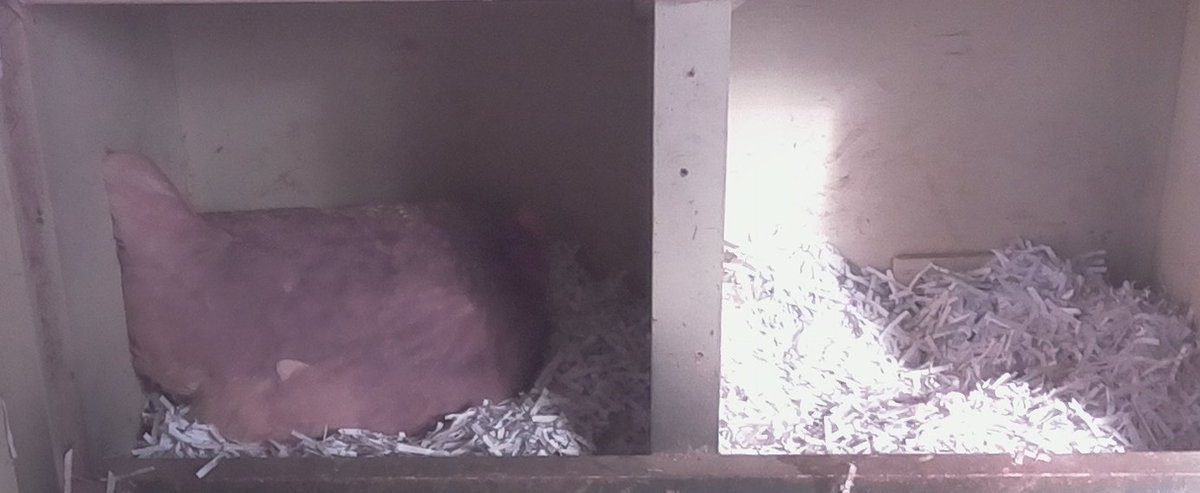hen: (94, 150, 557, 442)
